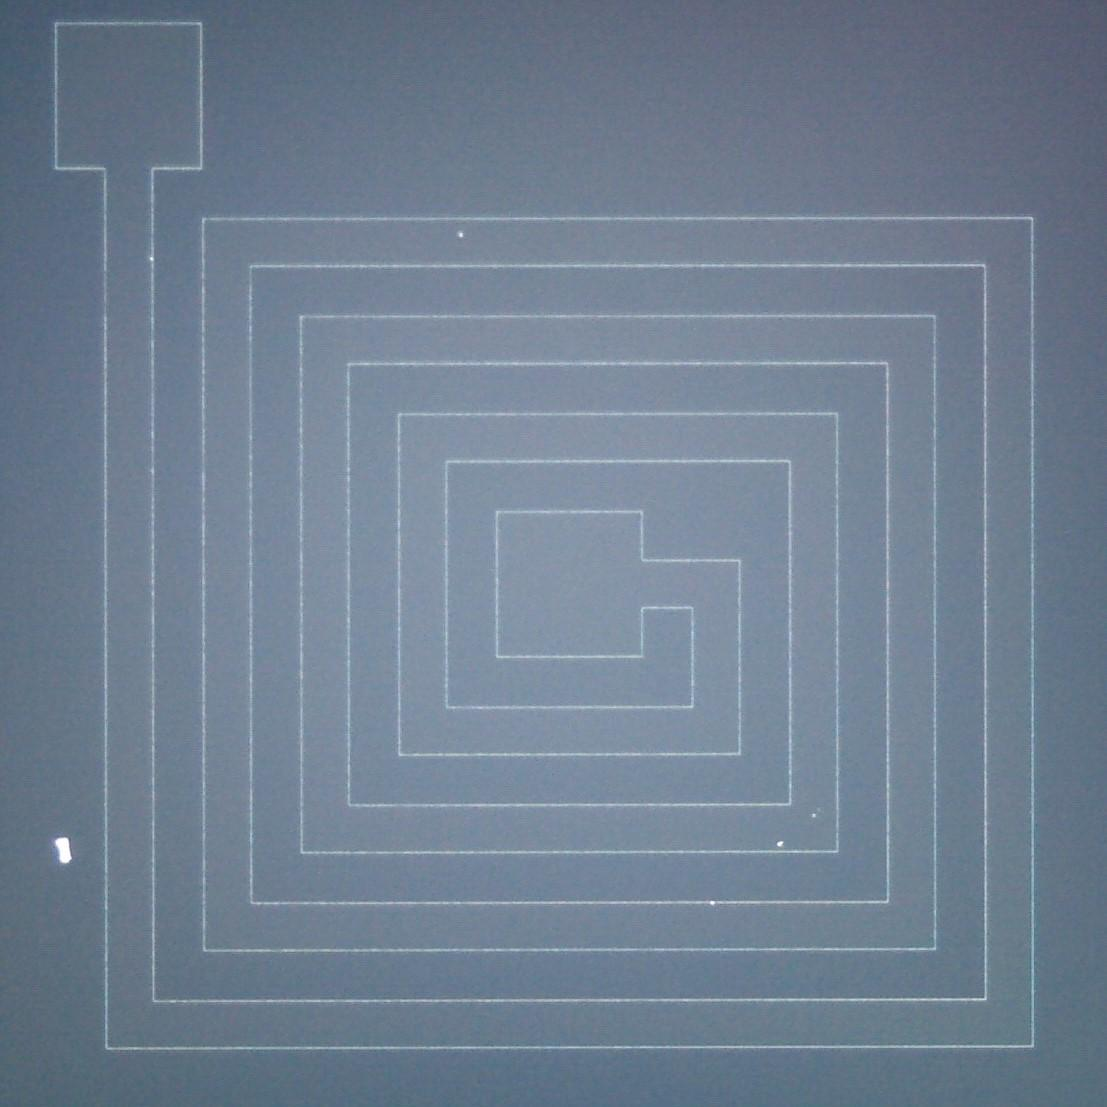B_point: (54, 836, 73, 865), (774, 838, 786, 848)
s_point: (454, 229, 465, 240), (708, 899, 717, 908), (810, 812, 818, 820), (148, 255, 156, 264), (814, 806, 822, 814)
